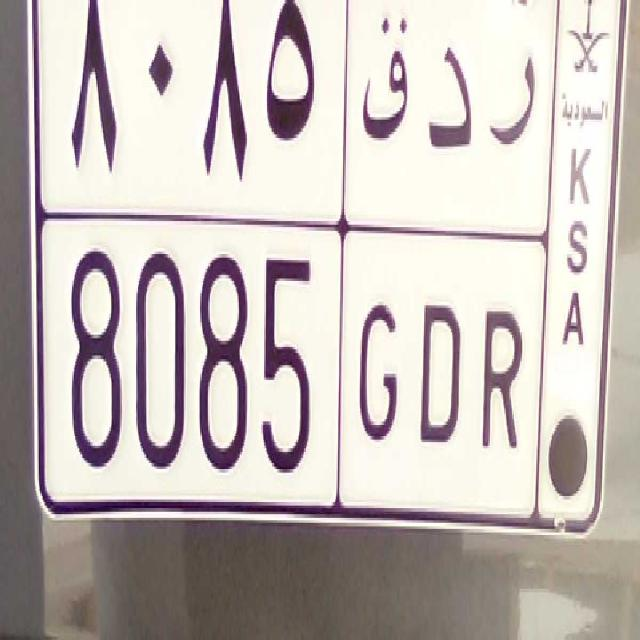license_plate: (43, 210, 540, 531)
